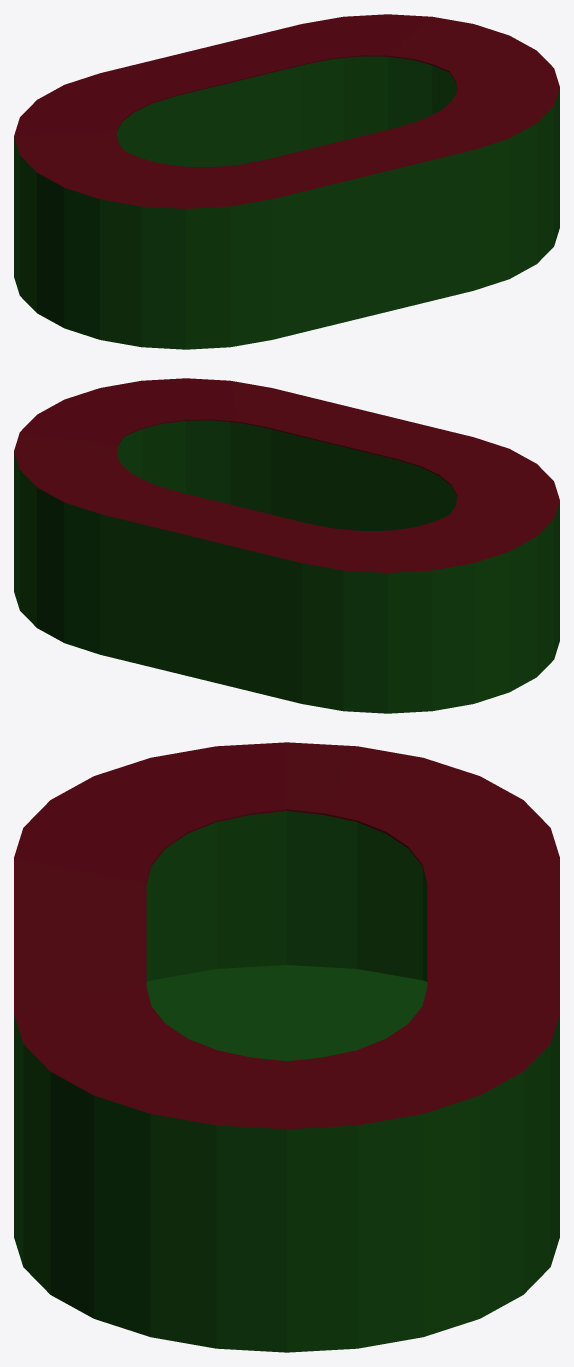
File: track.fbx
The picture shows the model from 3 angles, top to bottom: view 1: azimuth 30°, elevation 25°; view 2: azimuth 150°, elevation 25°; view 3: azimuth 270°, elevation 25°; orthographic projection. The views are drawn at different scales.
Visible parts, largest first — view 1: Cube; view 2: Cube; view 3: Cube.
Part boxes in pixels (<box>): Cube: <box>14,14,559,349</box>; Cube: <box>14,378,559,713</box>; Cube: <box>14,742,559,1352</box>.
Bounding box in the file's own units: 486 × 131 × 290.
